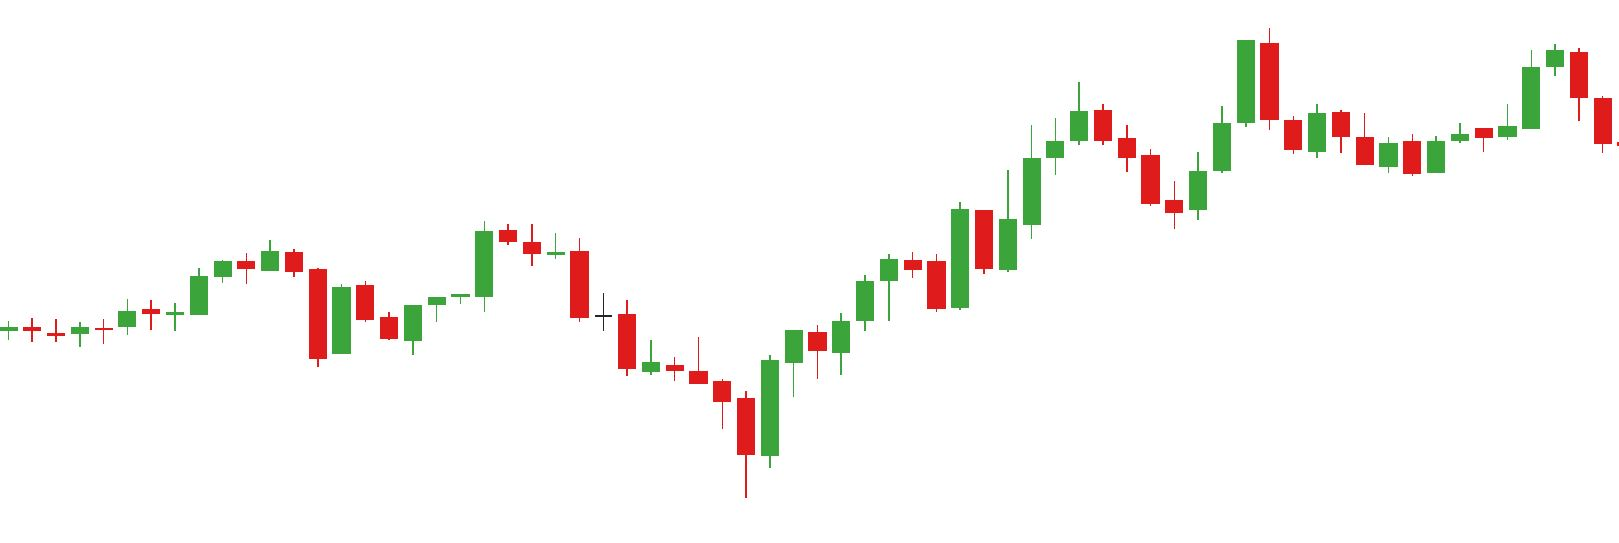buy: (162, 272, 356, 371)
sell: (1066, 27, 1284, 173)
